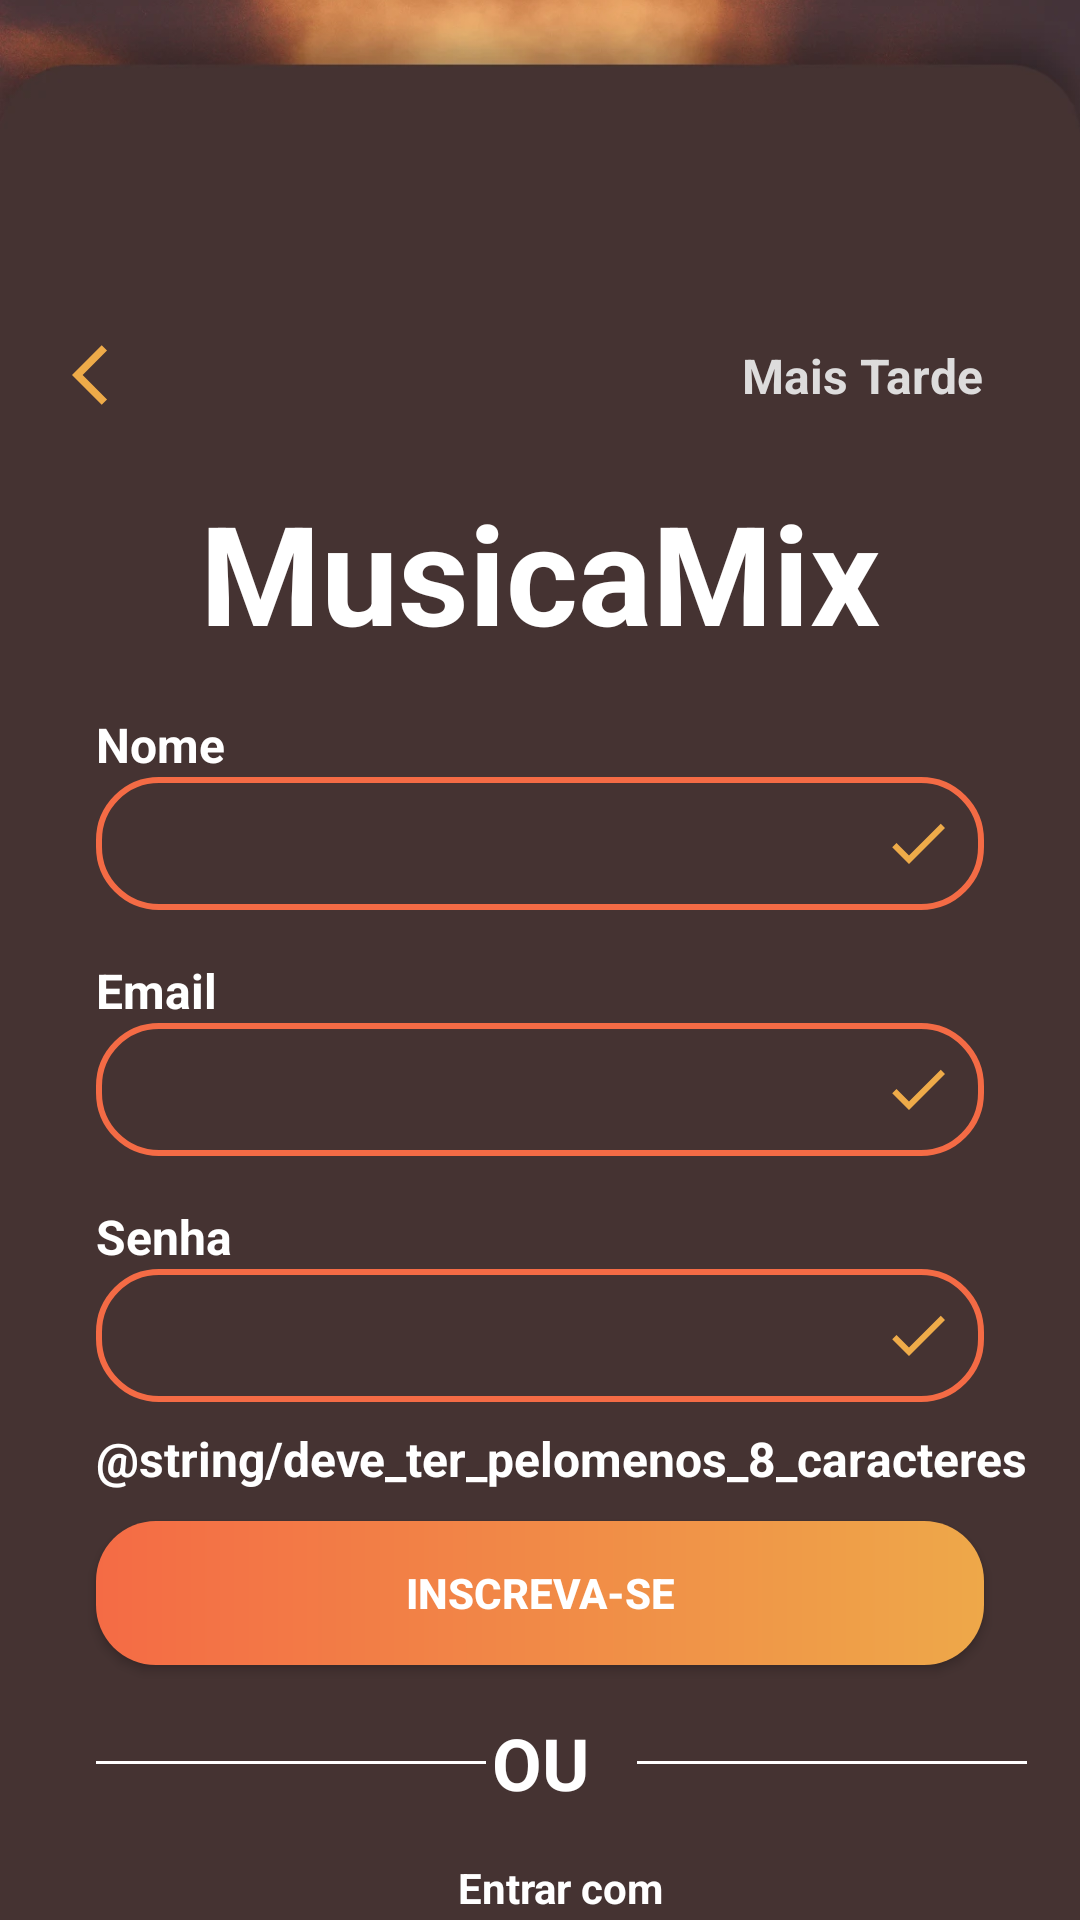

Where icons sit on this 1080*1920 app screen, as (x1, y1, x2, y2):
back: (72, 345, 107, 405)
